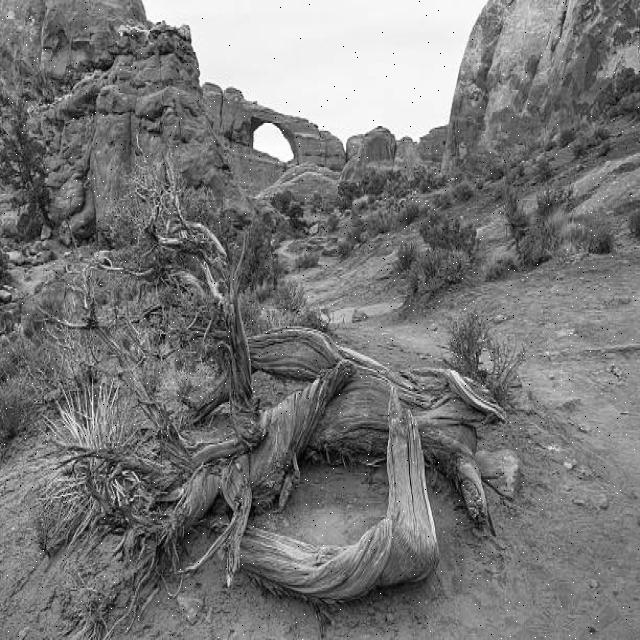Sedimentary: (1, 2, 350, 198), (440, 2, 640, 170)
